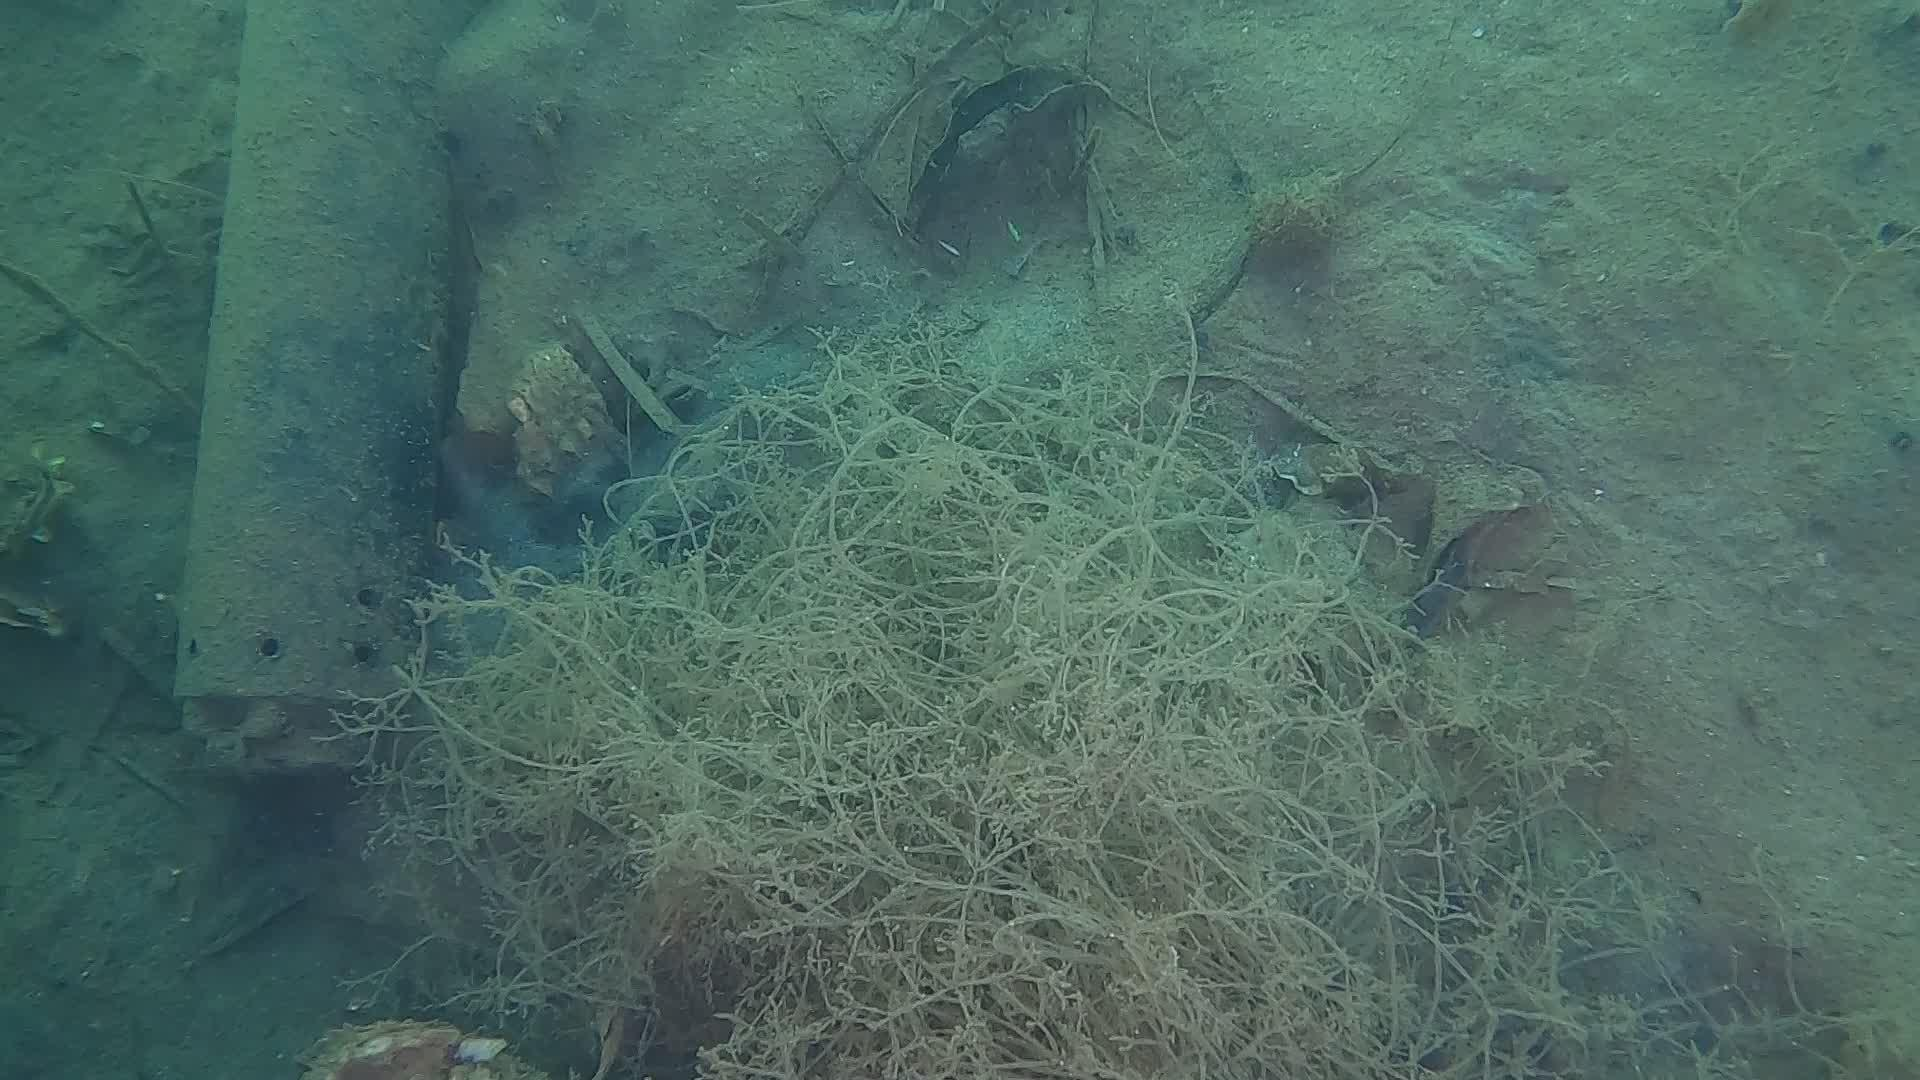eel fish trap: (170, 0, 458, 775)
